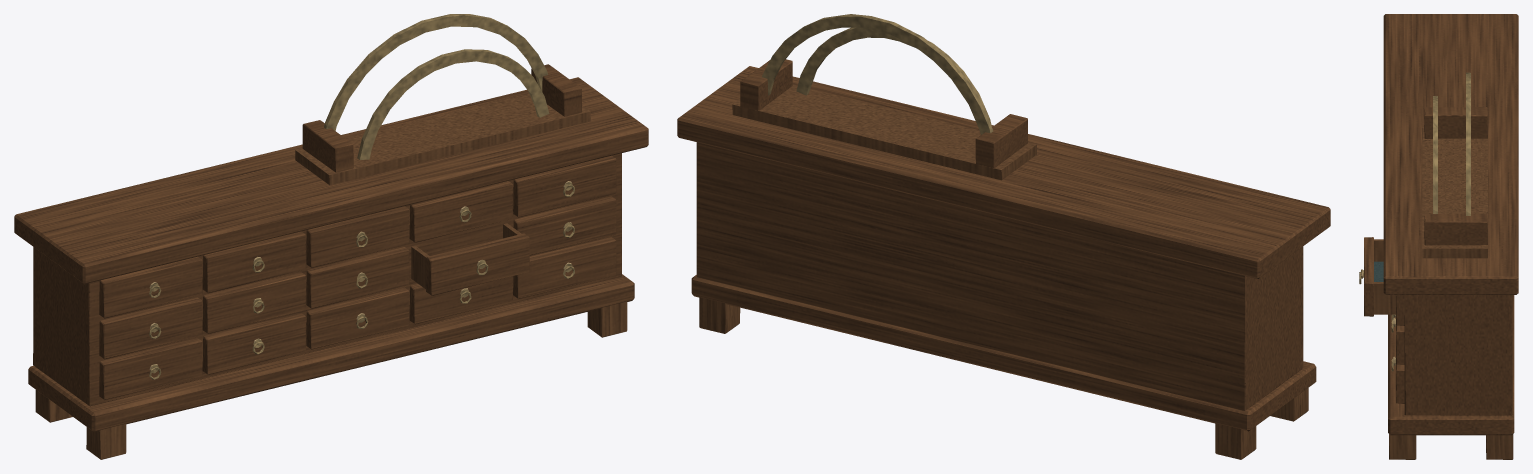
Rendered from ArcCabinet_LOD1.fbx.
3 views of the same model, side by side, from view 1: azimuth 30°, elevation 25°; view 2: azimuth 150°, elevation 25°; view 3: azimuth 270°, elevation 25° (orthographic). The views are drawn at different scales.
Parts seen in each view (by area): view 1: ArcCabinet.001; view 2: ArcCabinet.001; view 3: ArcCabinet.001.
Boxes of the visible parts, x1,y1,x2,y2 form: ArcCabinet.001: (14, 14, 648, 459); ArcCabinet.001: (677, 14, 1330, 459); ArcCabinet.001: (1359, 14, 1518, 459).
Size of the model in its own units: 2.44 by 1.32 by 0.6228.
Materials: 1 (1 with a texture image).
